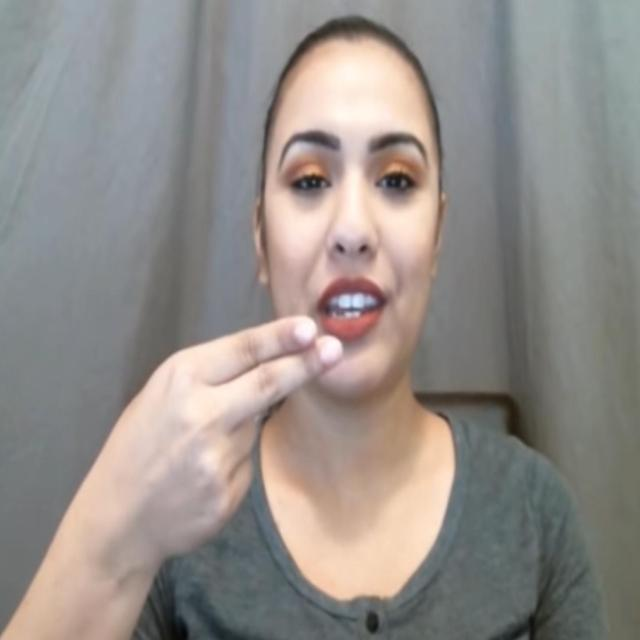H: (42, 310, 347, 558)
